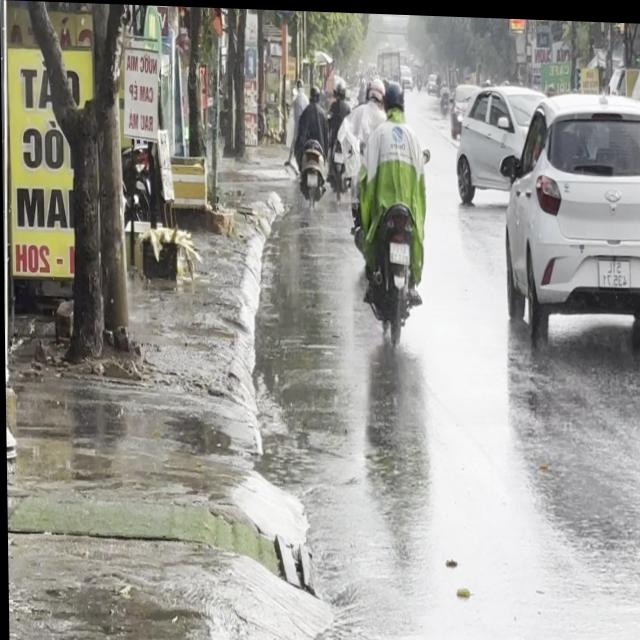helmet: (385, 76, 406, 114), (368, 72, 387, 103)
licenseplate: (349, 71, 432, 346)
nohelmet: (391, 239, 409, 259)
